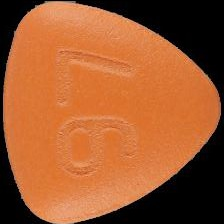51079-488: (0, 0, 224, 224)
